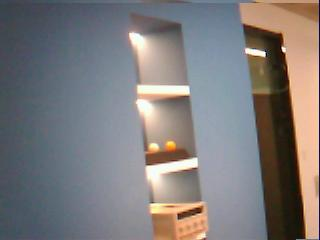oball: (165, 141, 175, 151)
